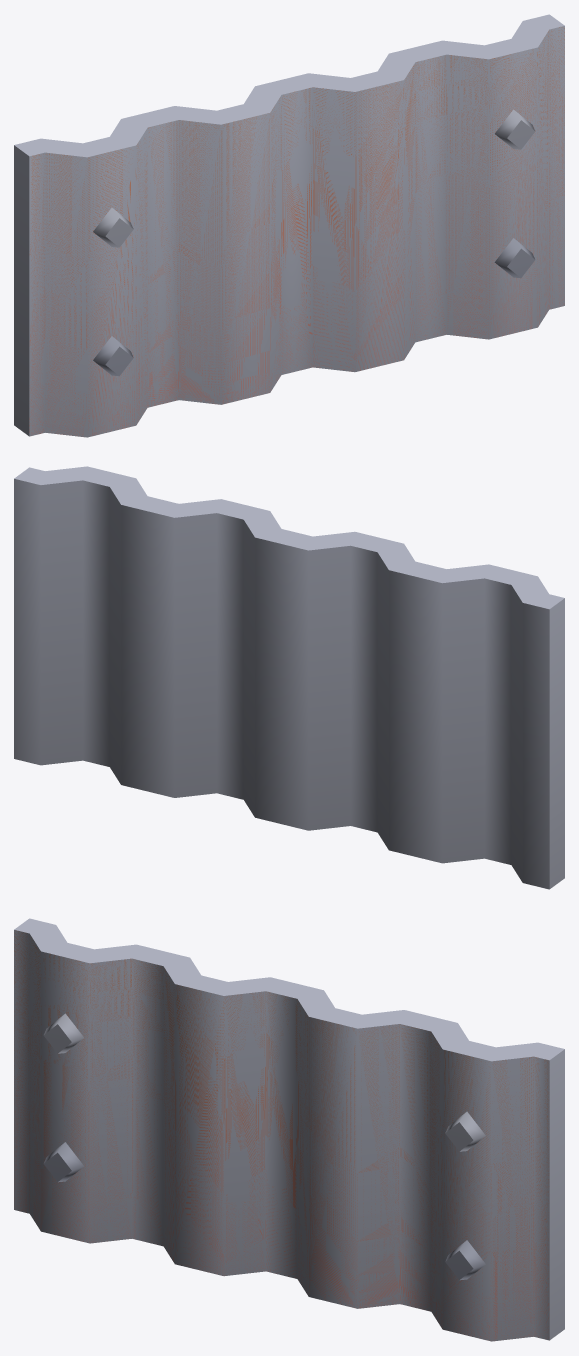
The model's file is metal-panel-screws-half.glb.
3 renders of one model, top to bottom at view 1: azimuth 30°, elevation 25°; view 2: azimuth 150°, elevation 25°; view 3: azimuth 330°, elevation 25°, orthographic.
Visible parts, largest first — view 1: metal-panel-screws-half; view 2: metal-panel-screws-half; view 3: metal-panel-screws-half.
Boxes of the visible parts, <box> form: metal-panel-screws-half: <box>14,14,564,437</box>; metal-panel-screws-half: <box>14,466,564,889</box>; metal-panel-screws-half: <box>14,918,564,1341</box>.
Size of the model in its own units: 0.5 by 0.25 by 0.0625.
